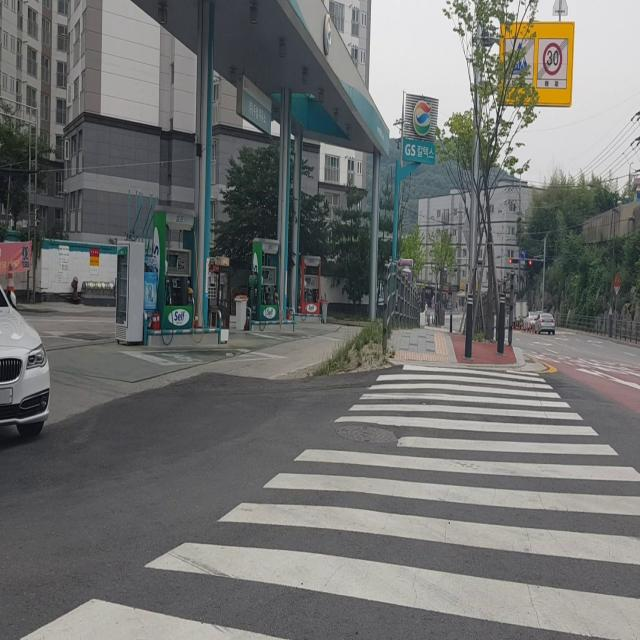횡단보도: (17, 360, 640, 640)
